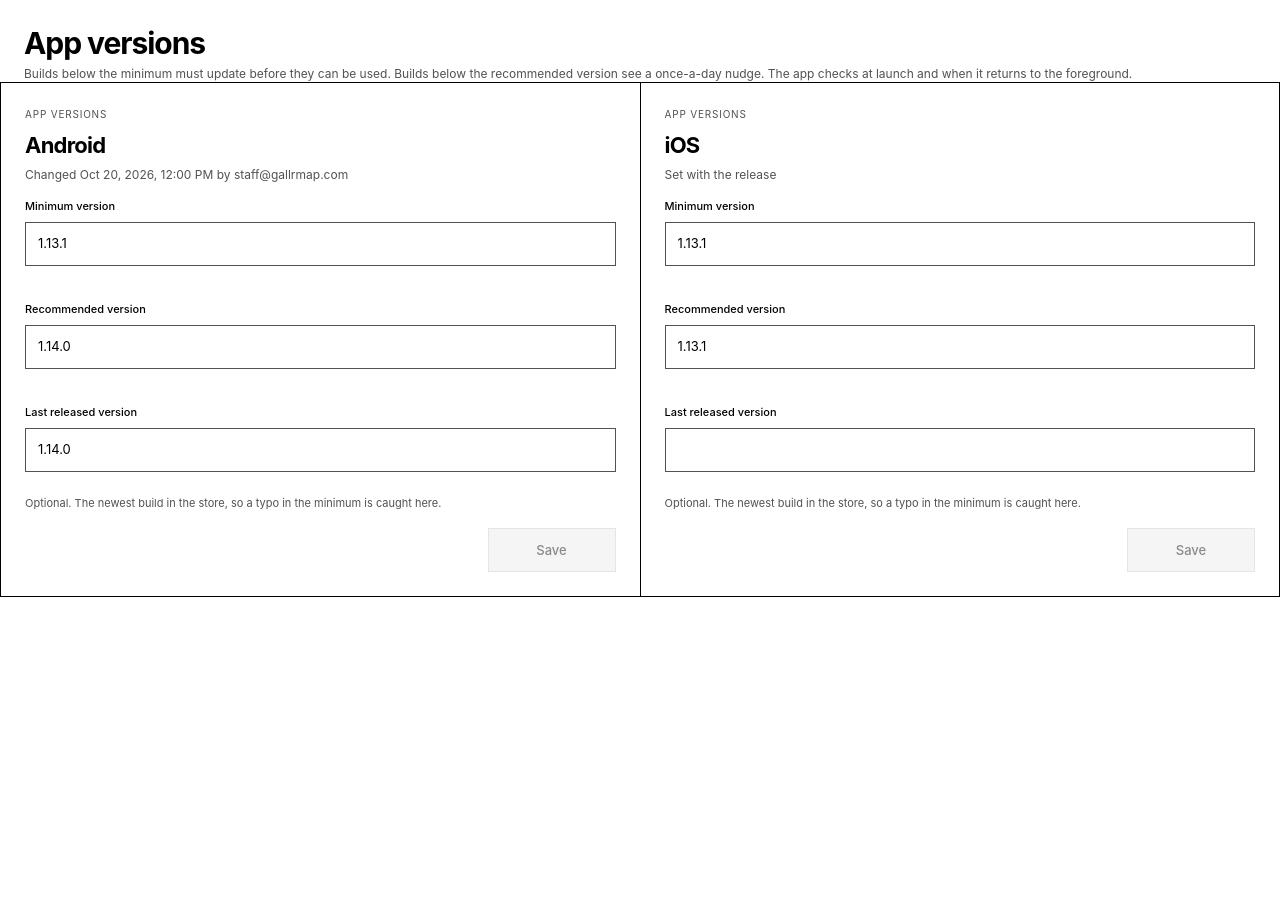
Test: AppVersionsWorkspace › saves the row's values and shows who saved them
The width and height of the screenshot is (1280, 900).
Expected: the 1st button "Save" is disabled, [488,528,616,572]
Replace the text in the field labelled "Recommended version" below "Android" with "1.15.0": [320, 347] box [25,325,616,369]
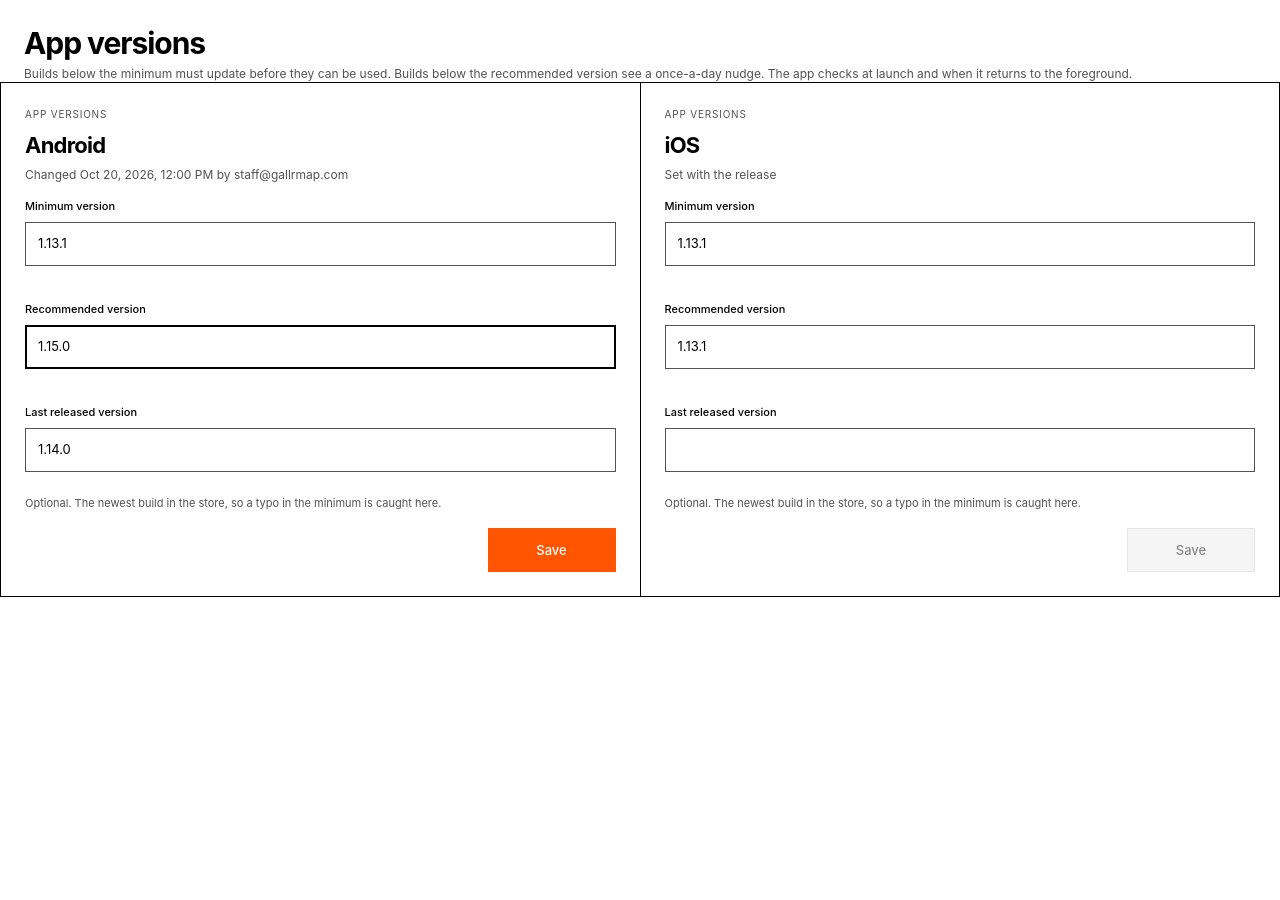
Clear the field labelled "Last released version" below "Android": [320, 450] box [25,428,616,472]
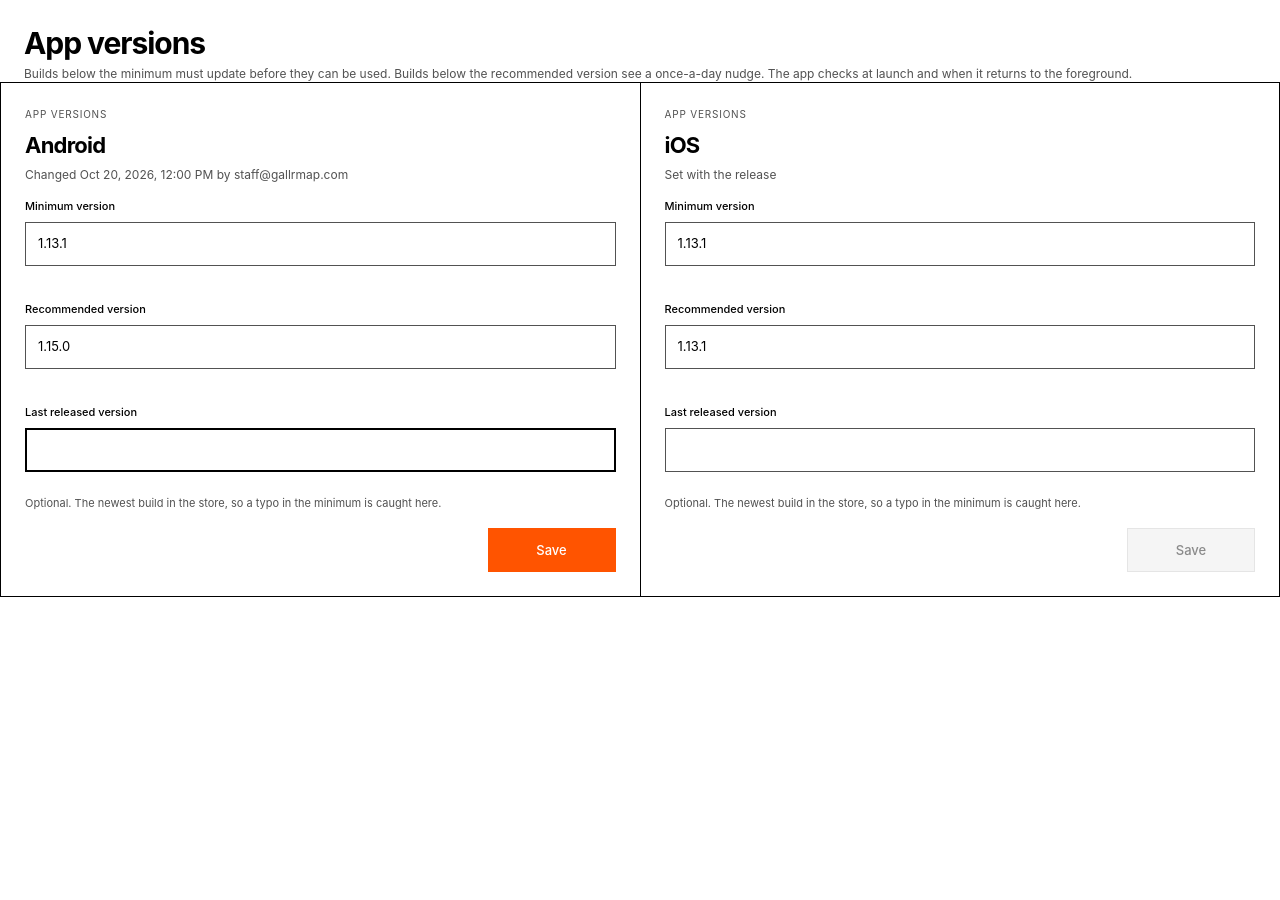
Click the 1st button "Save": [552, 550] box [488,528,616,572]
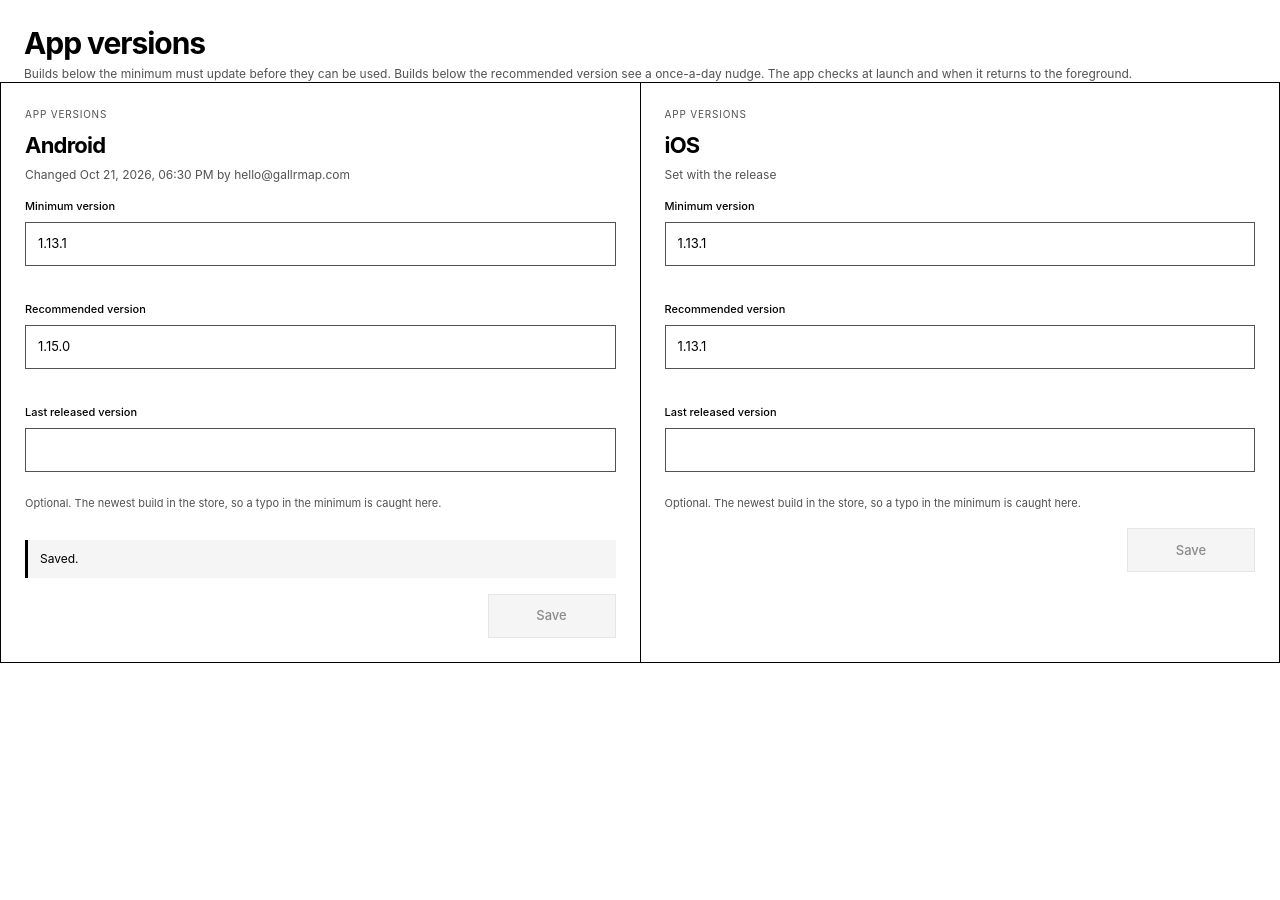
Expected: the message reads "Saved.", [40,551,79,566]
Expected: the text "Changed Oct 21, 2026, 06:30 PM by hello@gallrmap.com" is shown, [25,167,350,182]
Expected: the 2nd button "Save" is disabled, [488,594,616,638]
